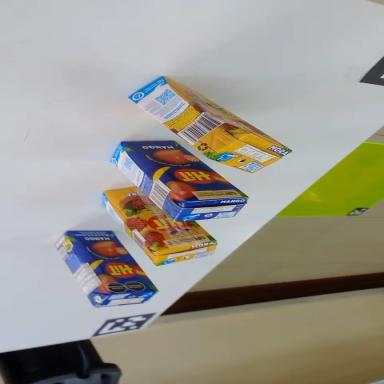HIT-MANGO: (104, 116, 250, 249), (48, 210, 158, 328)
HIT-MORA: (123, 63, 292, 193), (86, 174, 220, 285)
cara_F: (117, 114, 249, 229), (99, 162, 216, 275), (164, 73, 292, 158), (64, 210, 158, 315)
